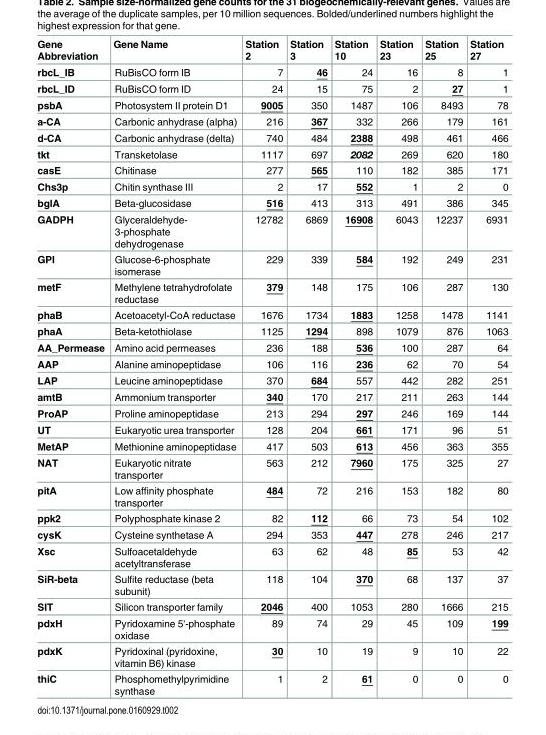table: (36, 37, 507, 695)
table column: (108, 37, 240, 695), (36, 37, 108, 695), (240, 37, 285, 695), (285, 37, 330, 695), (330, 37, 375, 695), (375, 37, 420, 695), (420, 37, 465, 695), (465, 37, 507, 695)
table column header: (36, 37, 507, 63)
table row: (36, 210, 507, 250), (36, 250, 507, 278), (36, 278, 507, 306), (36, 453, 507, 481), (36, 481, 507, 509), (36, 542, 507, 570), (36, 570, 507, 598), (36, 614, 507, 642), (36, 642, 507, 670), (36, 37, 507, 63), (36, 670, 507, 695), (36, 79, 507, 96), (36, 112, 507, 129), (36, 177, 507, 194), (36, 338, 507, 355), (36, 371, 507, 388), (36, 420, 507, 437), (36, 525, 507, 542), (36, 63, 507, 79), (36, 96, 507, 112), (36, 129, 507, 145), (36, 145, 507, 161), (36, 161, 507, 177), (36, 194, 507, 210), (36, 306, 507, 322), (36, 322, 507, 338), (36, 355, 507, 371), (36, 388, 507, 404), (36, 404, 507, 420), (36, 437, 507, 453), (36, 509, 507, 525), (36, 598, 507, 614)
